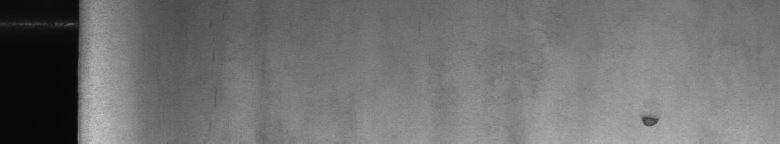fi: (636, 108, 664, 135)
